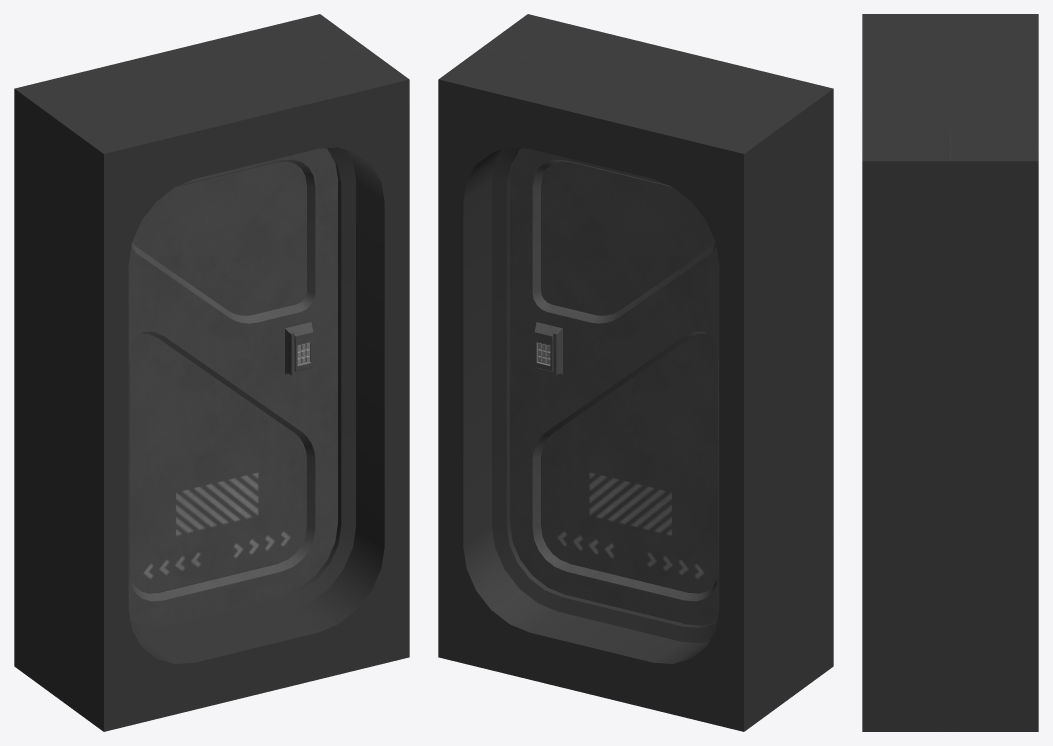
Rendered from Bulkhead_Door.glb.
3 views of the same model, side by side, from view 1: azimuth 30°, elevation 25°; view 2: azimuth 150°, elevation 25°; view 3: azimuth 270°, elevation 25° (orthographic).
Visible parts, largest first — view 1: Куб.002, Куб, Куб.001; view 2: Куб.002, Куб, Куб.001; view 3: Куб.002.
Part boxes in pixels (<box>): Куб.002: <box>14,14,409,731</box>; Куб: <box>128,148,337,625</box>; Куб.001: <box>285,322,313,375</box>; Куб.002: <box>438,14,833,731</box>; Куб: <box>510,148,719,625</box>; Куб.001: <box>534,322,562,375</box>; Куб.002: <box>862,14,1038,731</box>.
Size of the model in its own units: 2.89 by 5.21 by 1.46.
Materials: 1 (1 with a texture image).
